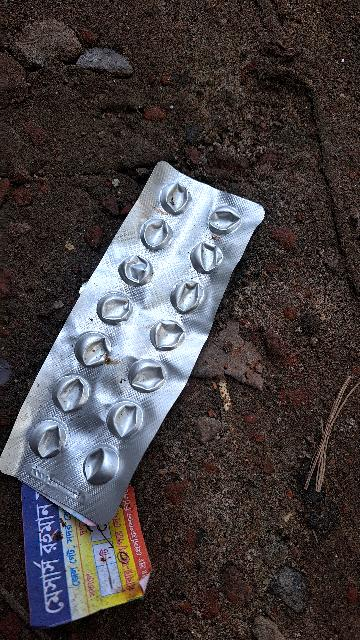medicine: (0, 146, 269, 541)
